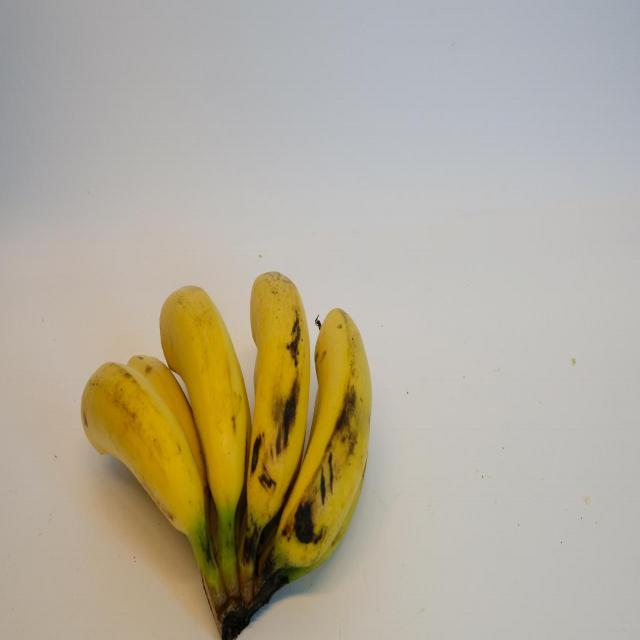banana: (65, 356, 207, 562), (280, 294, 374, 583), (159, 272, 252, 540), (250, 253, 312, 537)
